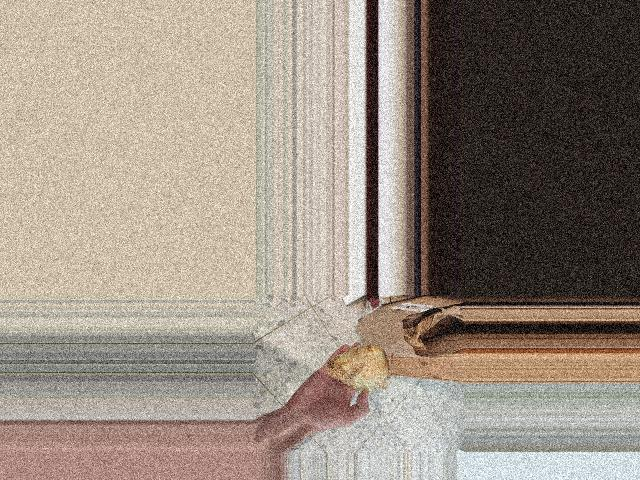onion: (321, 341, 394, 399)
